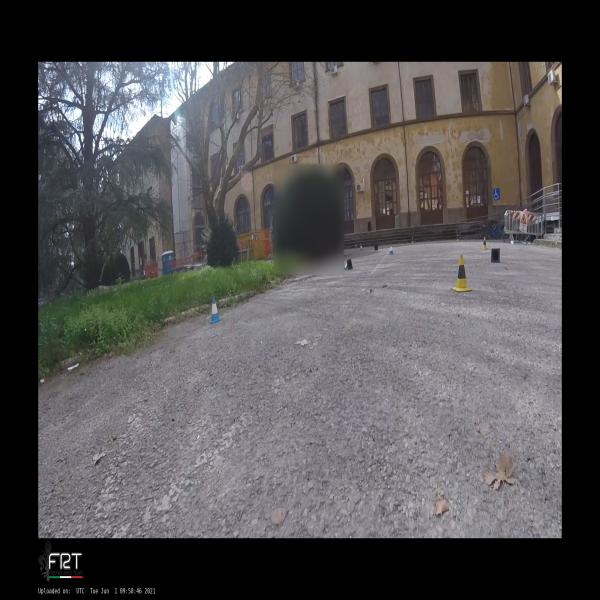blue_cone: (209, 298, 223, 324), (388, 243, 394, 255), (360, 245, 363, 251)
unknown_cone: (491, 248, 500, 264), (344, 259, 353, 270), (374, 245, 378, 250), (355, 244, 357, 248)
yellow_cone: (452, 256, 472, 292), (482, 236, 488, 250), (456, 234, 460, 242), (411, 237, 414, 244)
